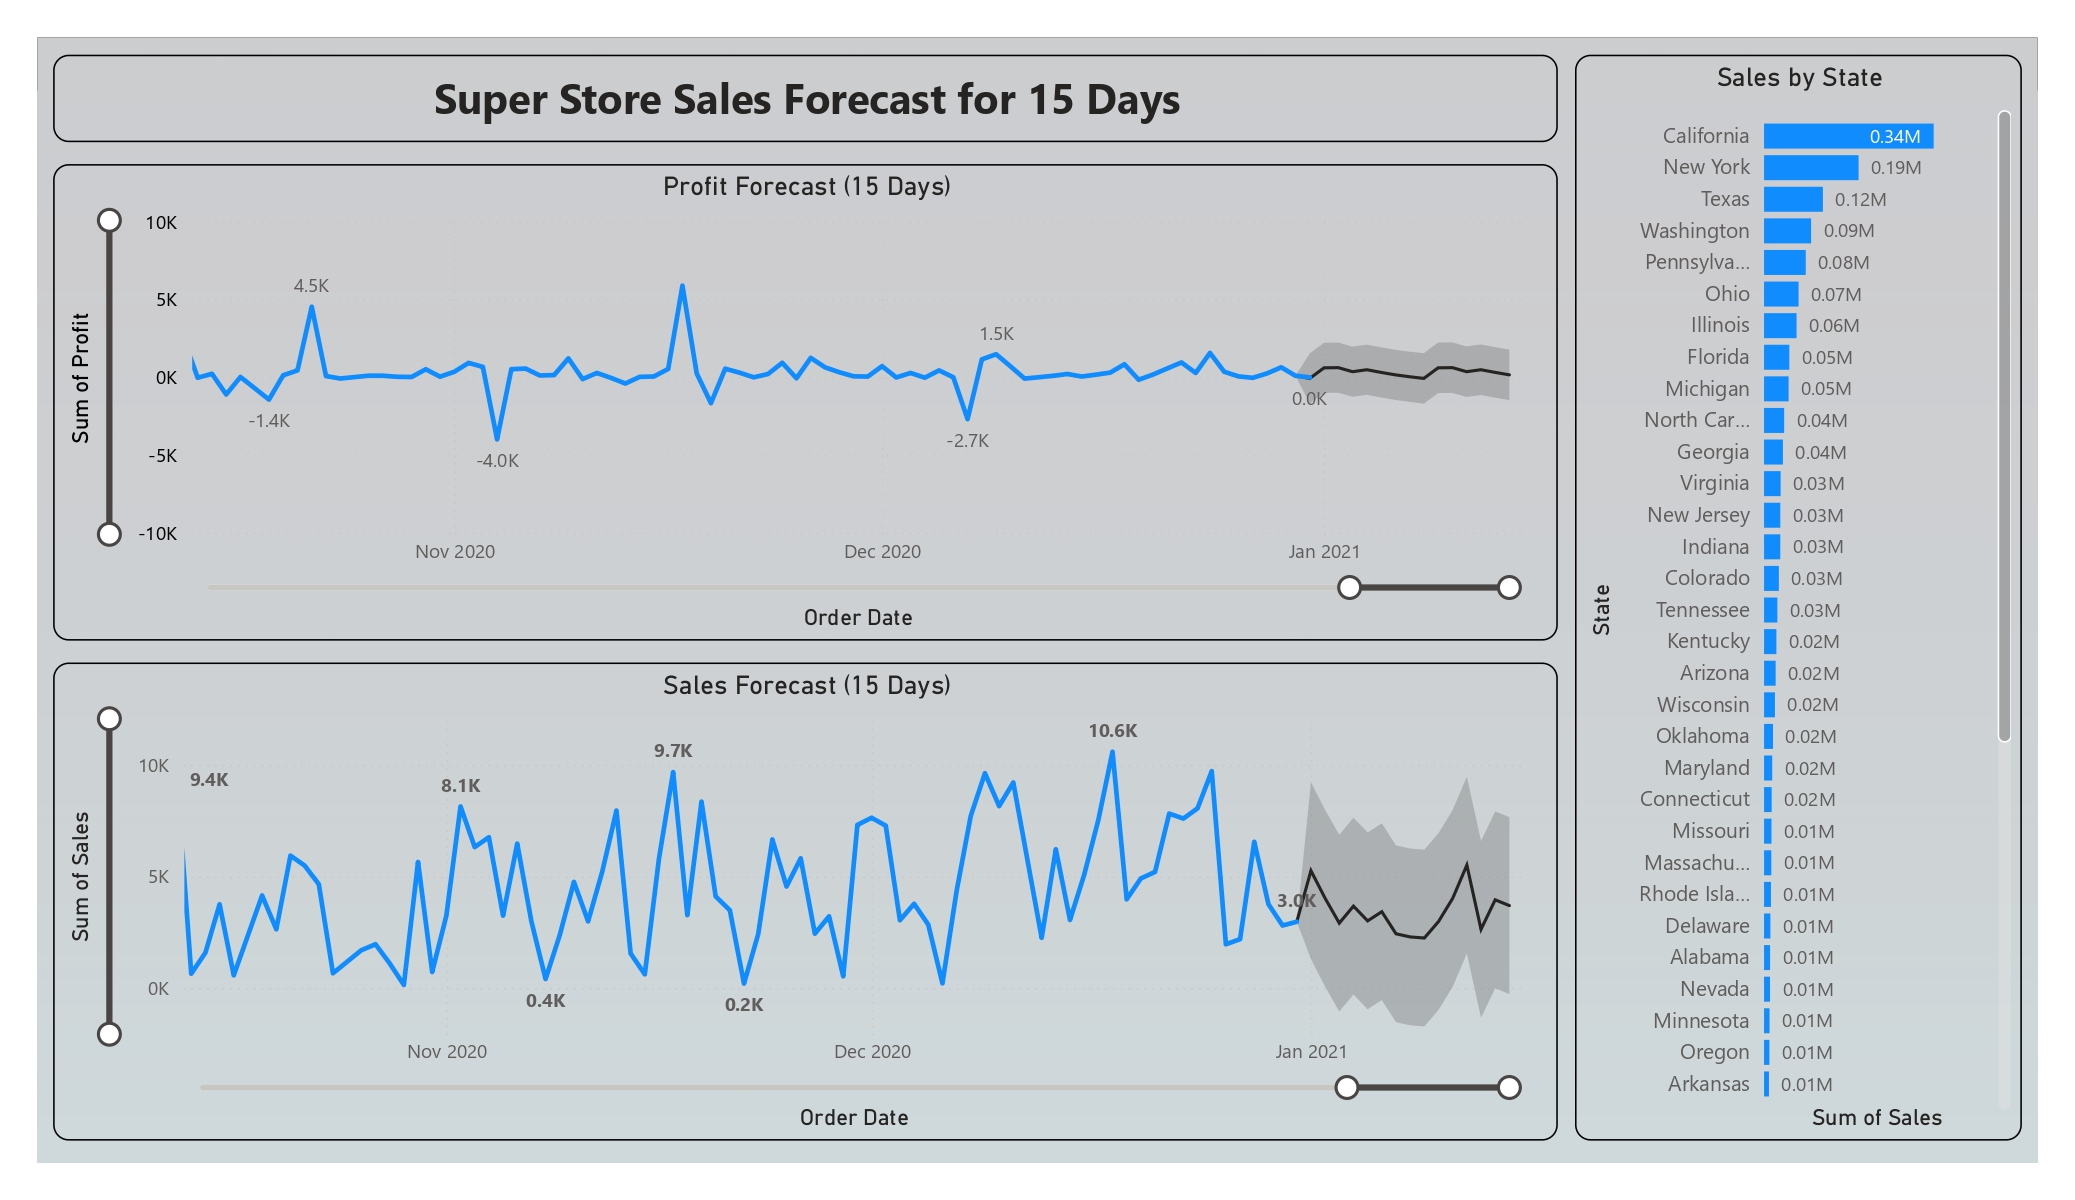

Layout of this report page (visuals, bound fields, positions):
{"tool":"powerbi","page":{"name":"Page 2","canvas":[1280,720],"ordinal":1},"visuals":[{"type":"lineChart","title":"Profit Forecast (15 Days)","fields":{"Category":["SuperStore_Sales_Dataset.Order Date"],"Y":["Sum(SuperStore_Sales_Dataset.Profit)"]},"box":[10,81.4,962.9,304.3],"z":0},{"type":"lineChart","title":"Sales Forecast (15 Days)","fields":{"Y":["Sum(SuperStore_Sales_Dataset.Sales)"],"Category":["SuperStore_Sales_Dataset.Order Date"]},"box":[10,400,962.9,305.7],"z":1000},{"type":"barChart","title":"Sales by State","fields":{"Y":["Sum(SuperStore_Sales_Dataset.Sales)"],"Category":["SuperStore_Sales_Dataset.State"]},"box":[984.3,11.4,285.7,694.3],"z":2000},{"type":"textbox","box":[10,11.4,962.9,55.7],"z":2001}]}

Visuals, with their boxes in screenshot pixels (x1, y1, x2, y2):
"Profit Forecast (15 Days)" lineChart: rect(69, 163, 1554, 633)
"Sales Forecast (15 Days)" lineChart: rect(69, 655, 1554, 1126)
"Sales by State" barChart: rect(1572, 55, 2012, 1126)
textbox: rect(69, 55, 1554, 141)
